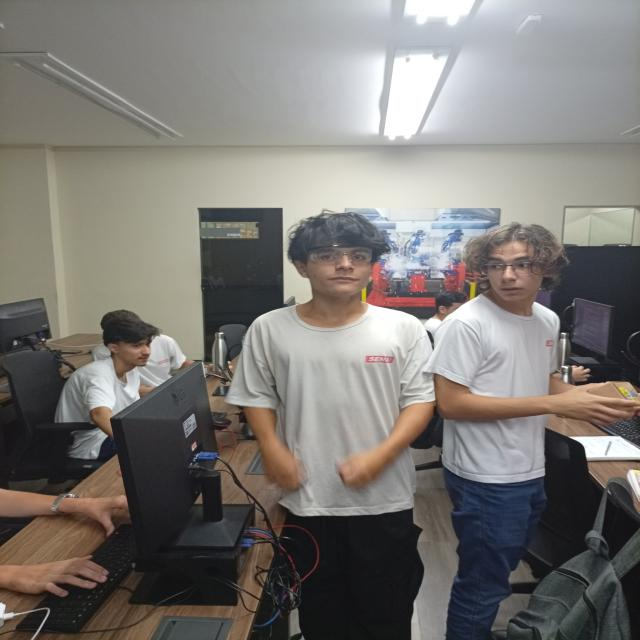oculos-epi: (298, 245, 377, 265)
sem_oculos: (472, 253, 555, 278), (108, 340, 153, 353)
